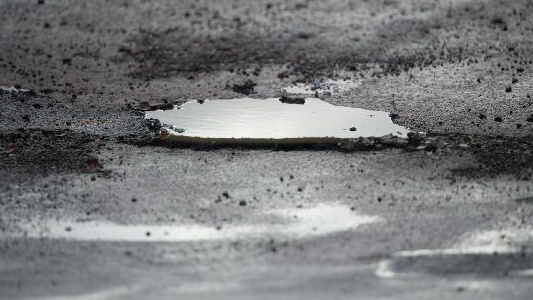pothole: (129, 95, 426, 157)
